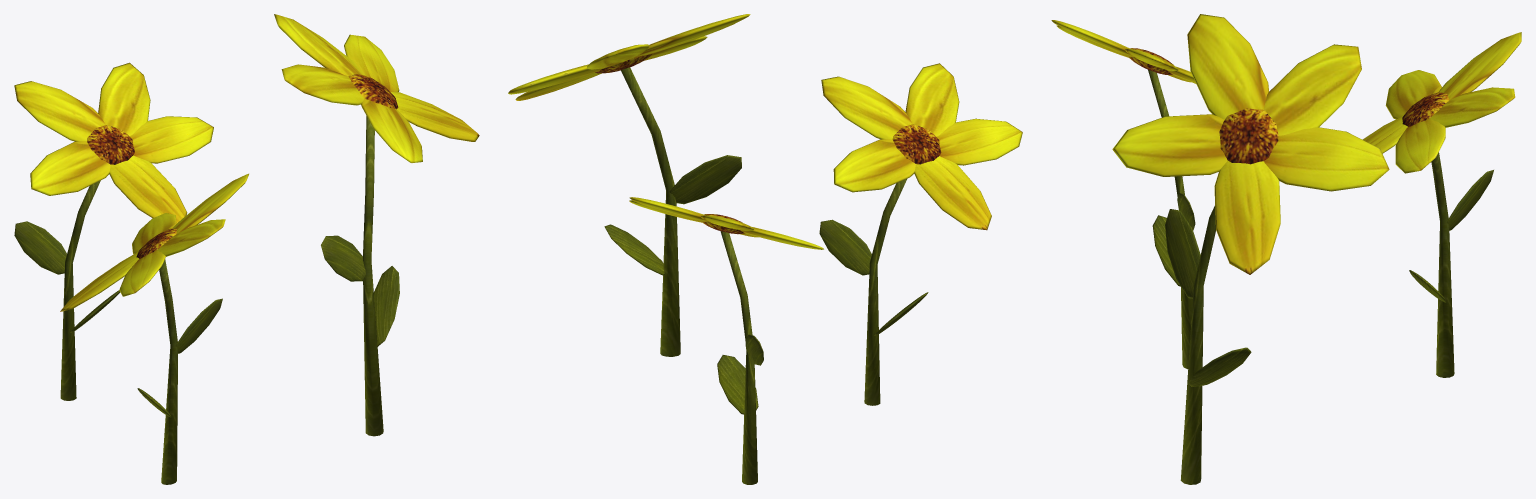
Rendered from yellowFlower_fbx.fbx.
3 views of the same model, side by side, from view 1: azimuth 30°, elevation 25°; view 2: azimuth 150°, elevation 25°; view 3: azimuth 270°, elevation 25° (orthographic). The views are drawn at different scales.
Parts seen in each view (by area): view 1: Mesh; view 2: Mesh; view 3: Mesh.
Boxes of the visible parts, bbox=[...] form: Mesh: bbox=[14, 14, 479, 484]; Mesh: bbox=[508, 14, 1022, 484]; Mesh: bbox=[1051, 14, 1521, 484].
Bounding box in the file's own units: 19.29 × 15.22 × 15.45.
